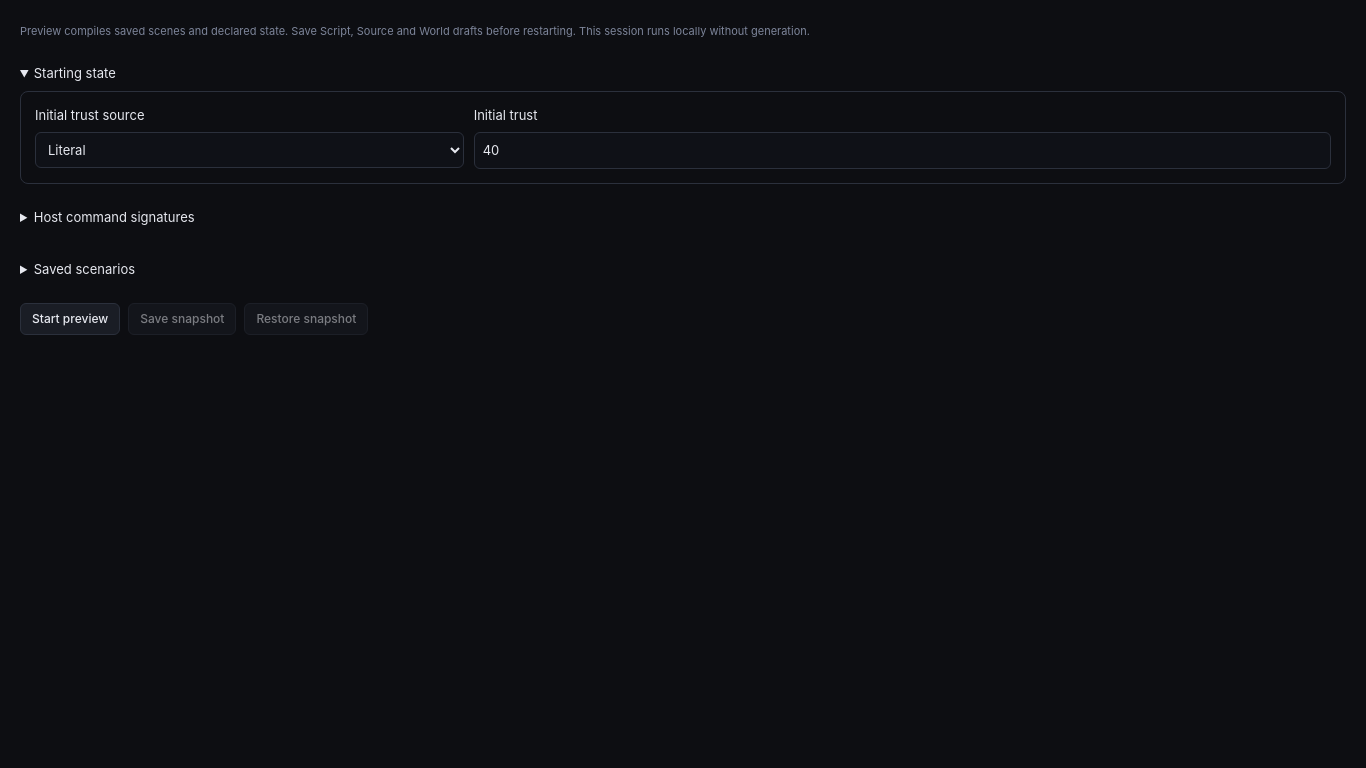
Test: deterministic narrative preview › displays the native command error message rather than an object label
expect the number field labelled "Initial trust" is shown: met, box [474, 132, 1331, 169]
Click the button "Start preview": (70, 319) [20, 303, 120, 335]
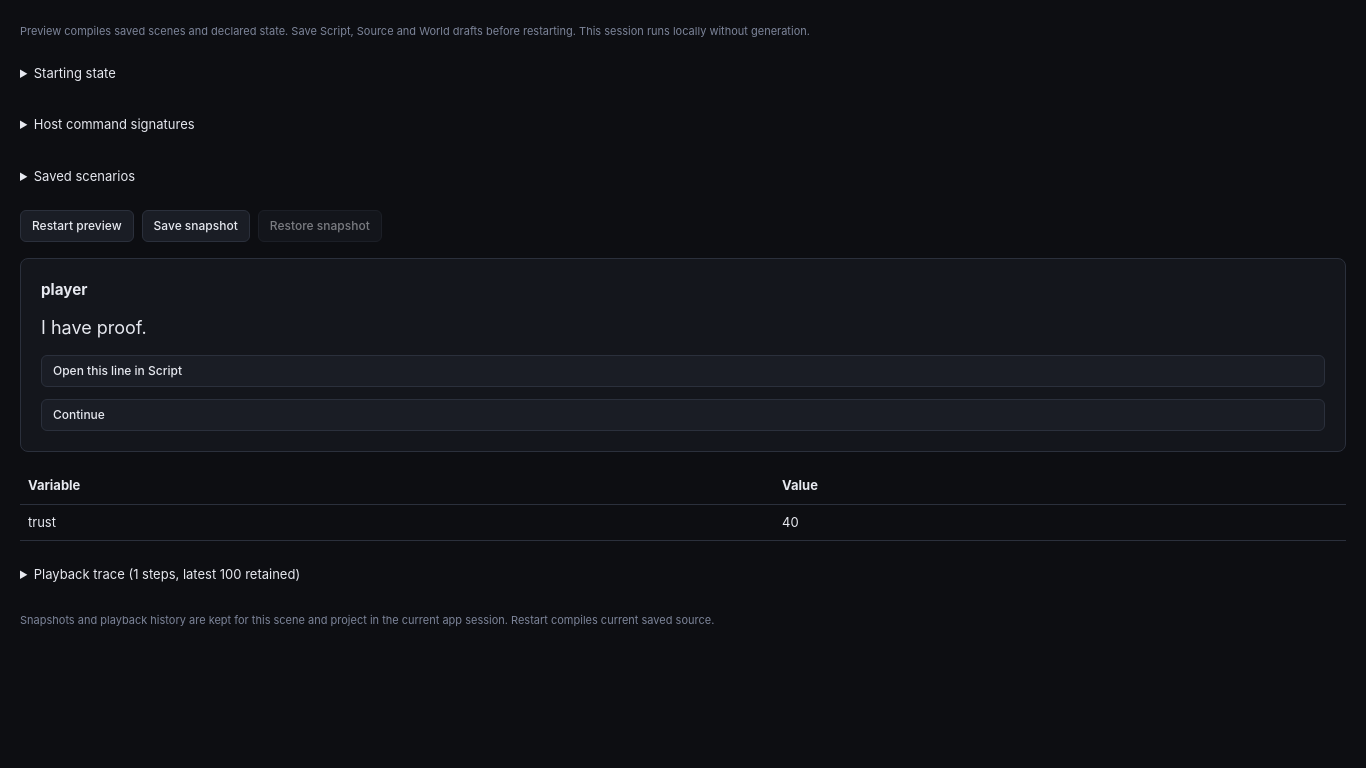
Click the button "Continue": (79, 415) [41, 399, 1325, 431]
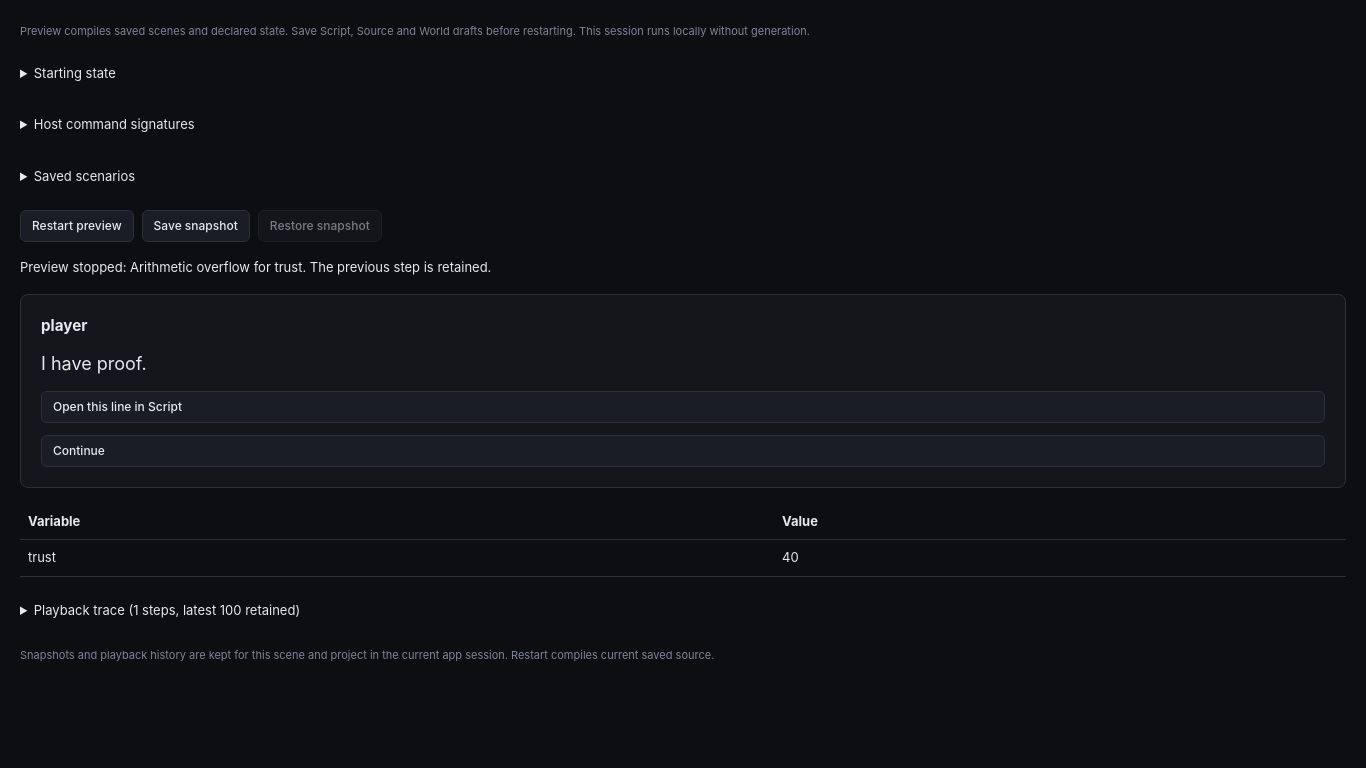
expect the text "I have proof." is shown: met, box [41, 353, 147, 374]
expect the message shows "Arithmetic overflow for trust.": met, box [130, 259, 306, 275]
